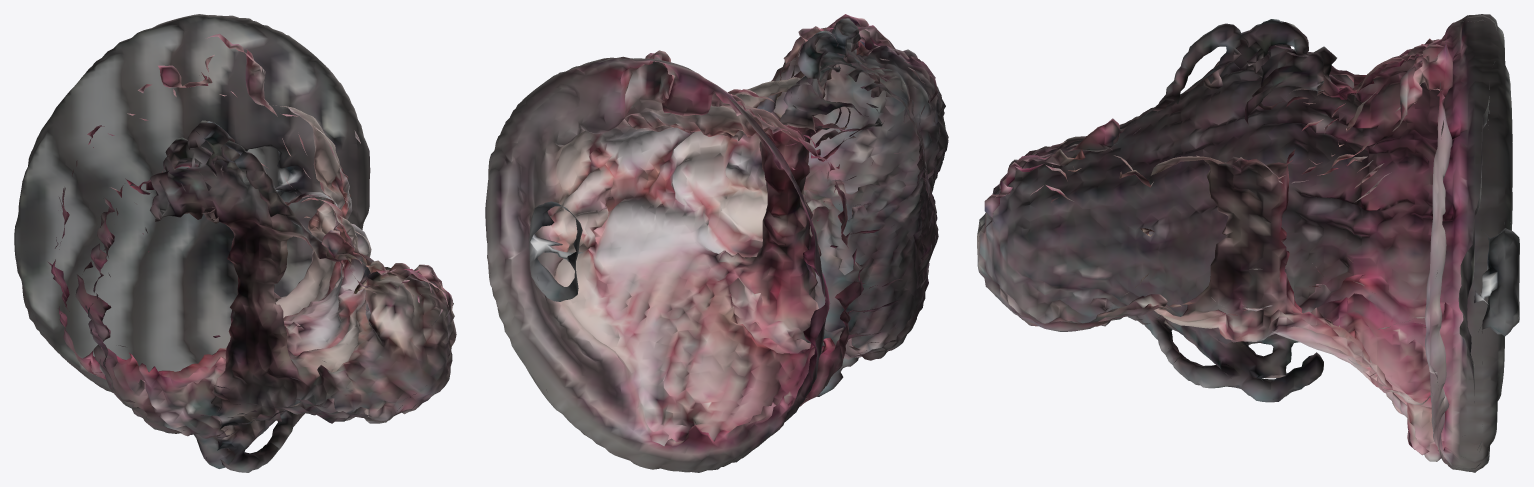
3 views of the same model, side by side, from view 1: azimuth 30°, elevation 25°; view 2: azimuth 150°, elevation 25°; view 3: azimuth 270°, elevation 25° (orthographic). The views are drawn at different scales.
Parts seen in each view (by area): view 1: geometry_0; view 2: geometry_0; view 3: geometry_0.
Part boxes in pixels (x1,y1,x2,y2): geometry_0: [14, 14, 456, 472]; geometry_0: [485, 14, 948, 472]; geometry_0: [977, 14, 1519, 472].
Size of the model in its own units: 0.8148 by 0.8543 by 1.
